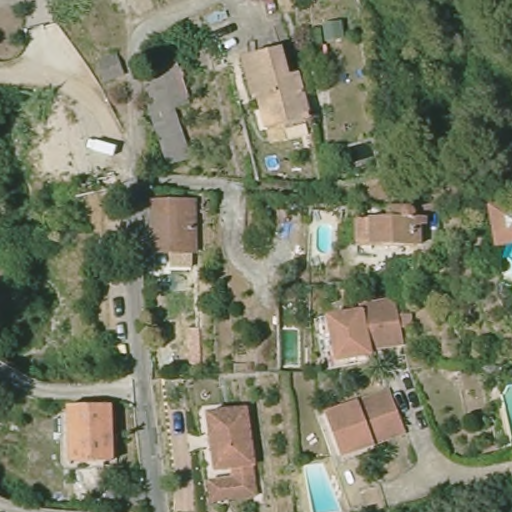pool: (299, 455, 352, 512), (307, 218, 341, 258), (258, 152, 283, 172)
